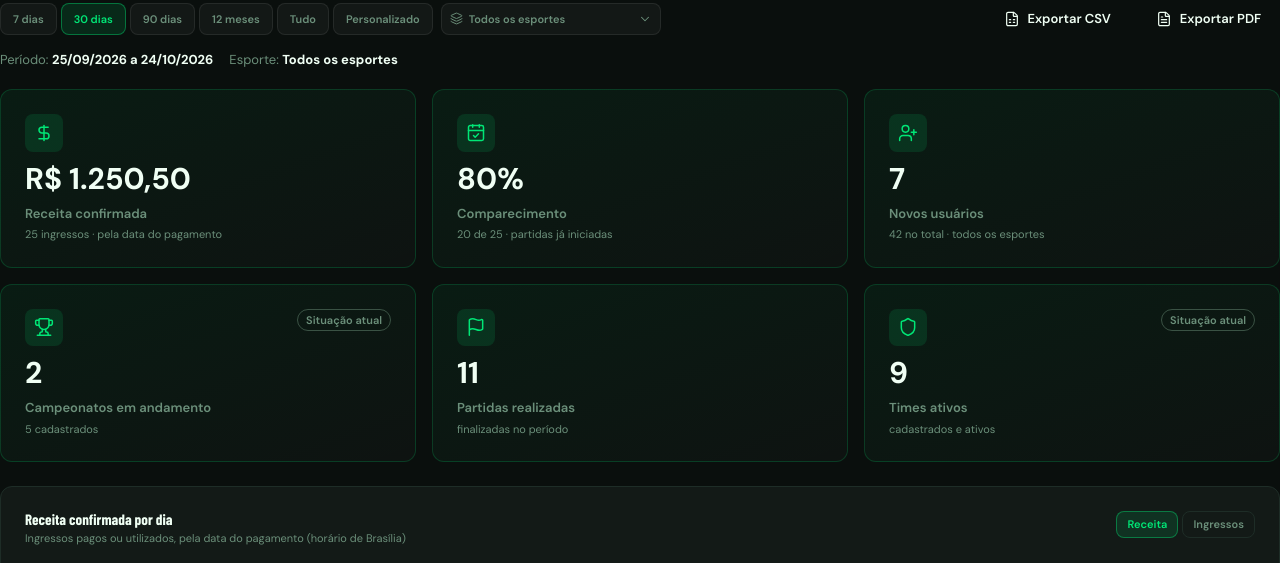
Test: AdminDashboard › período personalizado acima de 10 anos é recusado sem consultar a API
The image size is (1280, 563).
Click the button "Personalizado" at (383, 19), box [333,3,433,35]
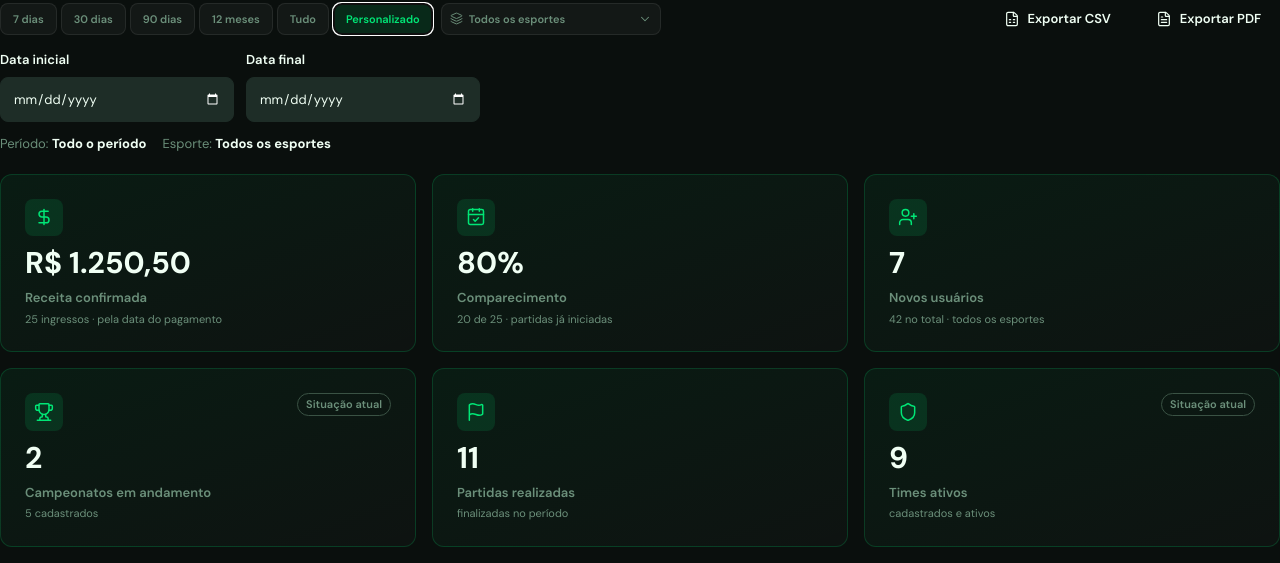
Type "2001-01-01" into the date field labelled "Data inicial" at (117, 100), box [0,77,234,122]
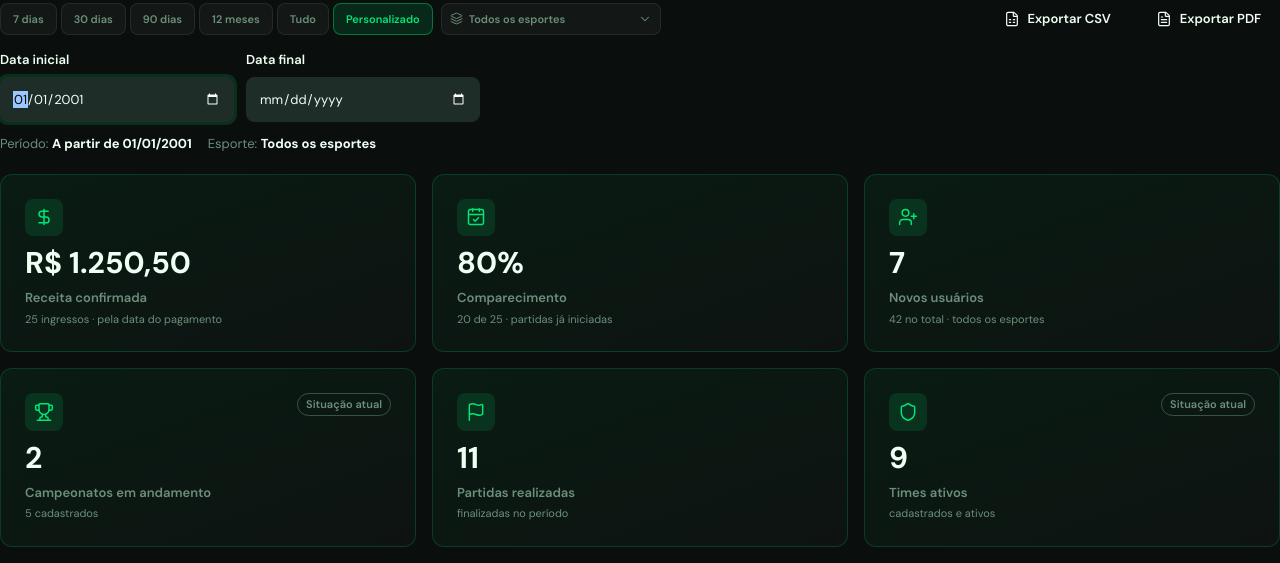
Type "2026-10-05" into the date field labelled "Data final" at (363, 100), box [246,77,480,122]
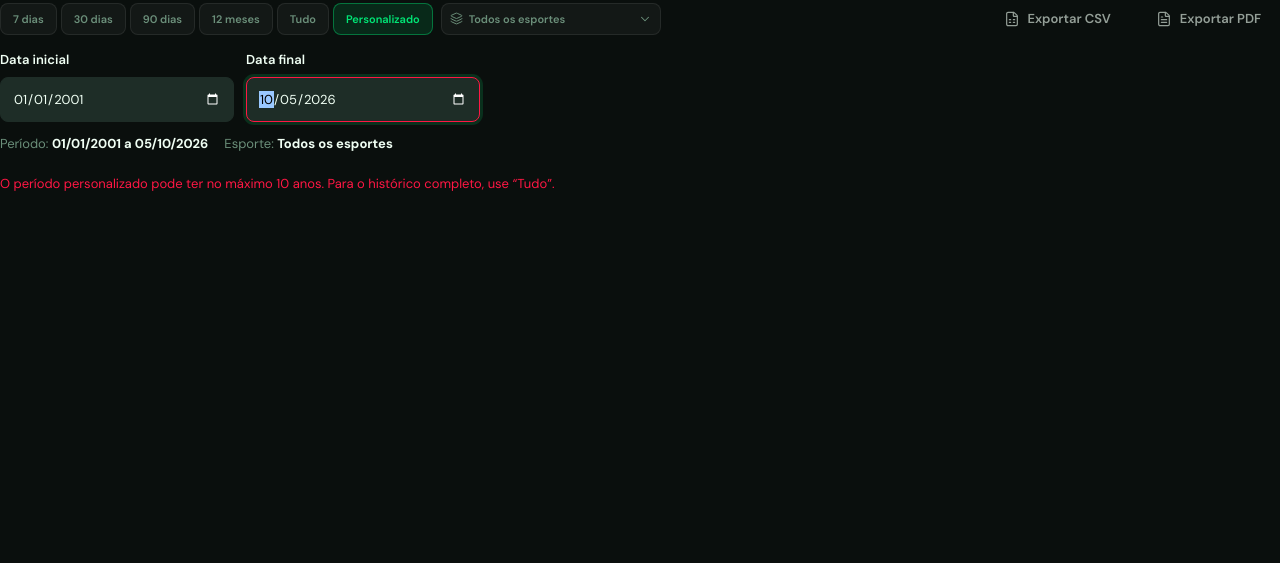
Expected: the message shows "no máximo 10 anos", [0,174,554,192]
